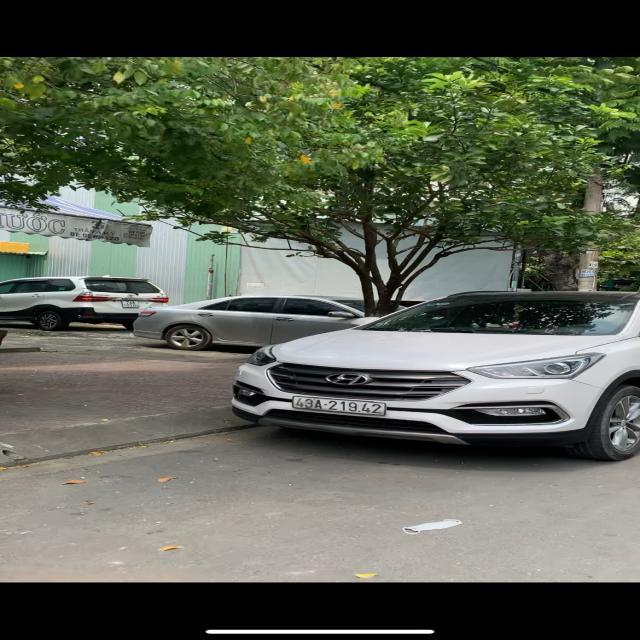car: (241, 238, 639, 465), (133, 286, 386, 352), (0, 270, 170, 331)
plate: (284, 389, 392, 422), (102, 292, 148, 319)
